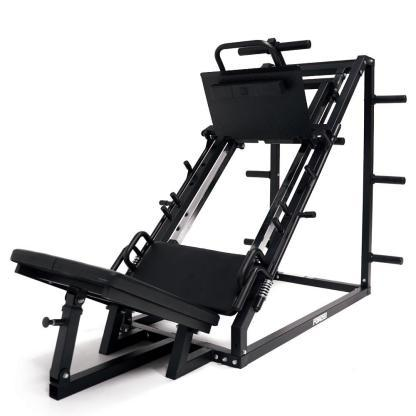leg press: (9, 29, 412, 401)
